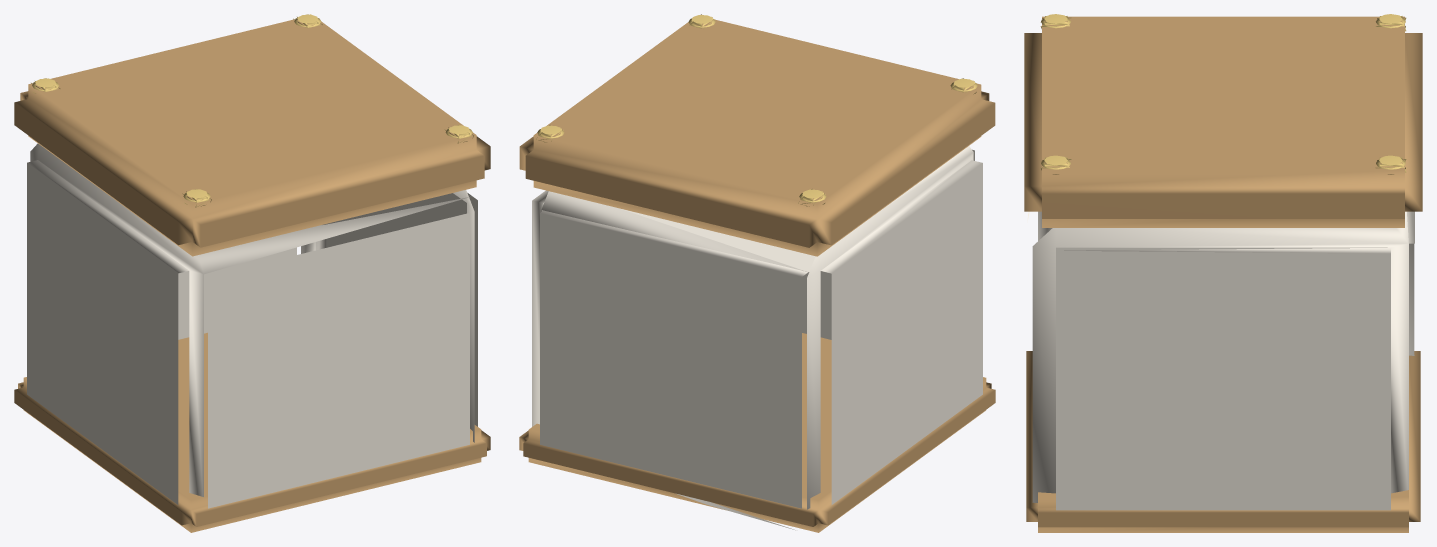
File: toy_platform_slab.glb
3 renders of one model, left to right at view 1: azimuth 30°, elevation 25°; view 2: azimuth 150°, elevation 25°; view 3: azimuth 270°, elevation 25°, orthographic. The views are drawn at different scales.
Visible parts, largest first — view 1: SlabBody, SlabTopDeck, SlabBottomRim; view 2: SlabBody, SlabTopDeck, SlabBottomRim; view 3: SlabBody, SlabTopDeck, SlabBottomRim.
Boxes of the visible parts, x1,y1,x2,y2 form: SlabBody: (27, 143, 477, 508); SlabTopDeck: (14, 19, 490, 256); SlabBottomRim: (14, 332, 490, 532); SlabBody: (532, 146, 982, 530); SlabTopDeck: (519, 19, 995, 256); SlabBottomRim: (519, 333, 995, 532); SlabBody: (1027, 211, 1414, 510); SlabTopDeck: (1024, 16, 1422, 227); SlabBottomRim: (1026, 351, 1420, 532).
Size of the model in its own units: 1 by 1.01 by 1.
